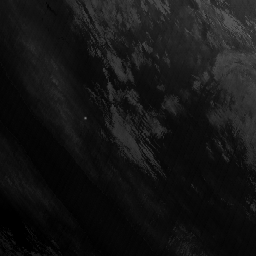Target: (82, 114, 87, 120)
